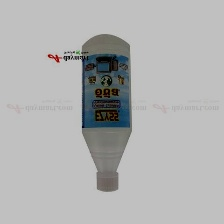cleaning_solution: (77, 31, 133, 195)
